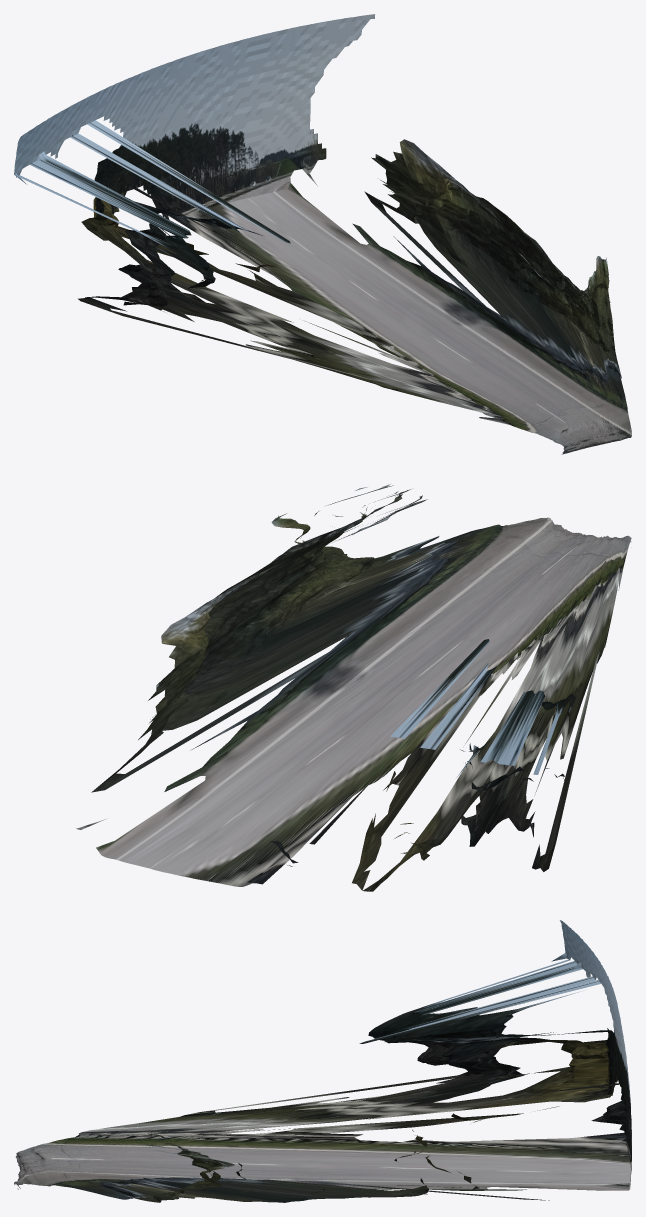
3 renders of one model, top to bottom at view 1: azimuth 30°, elevation 25°; view 2: azimuth 150°, elevation 25°; view 3: azimuth 270°, elevation 25°, orthographic. The views are drawn at different scales.
Visible parts, largest first — view 1: defaultobject; view 2: defaultobject; view 3: defaultobject.
Part boxes in pixels (x1,y1,x2,y2): defaultobject: (14,14,631,454); defaultobject: (76,484,631,891); defaultobject: (14,920,631,1202).
Bounding box in the file's own units: 29.84 × 11.87 × 44.38.
Materials: 1 (1 with a texture image).
